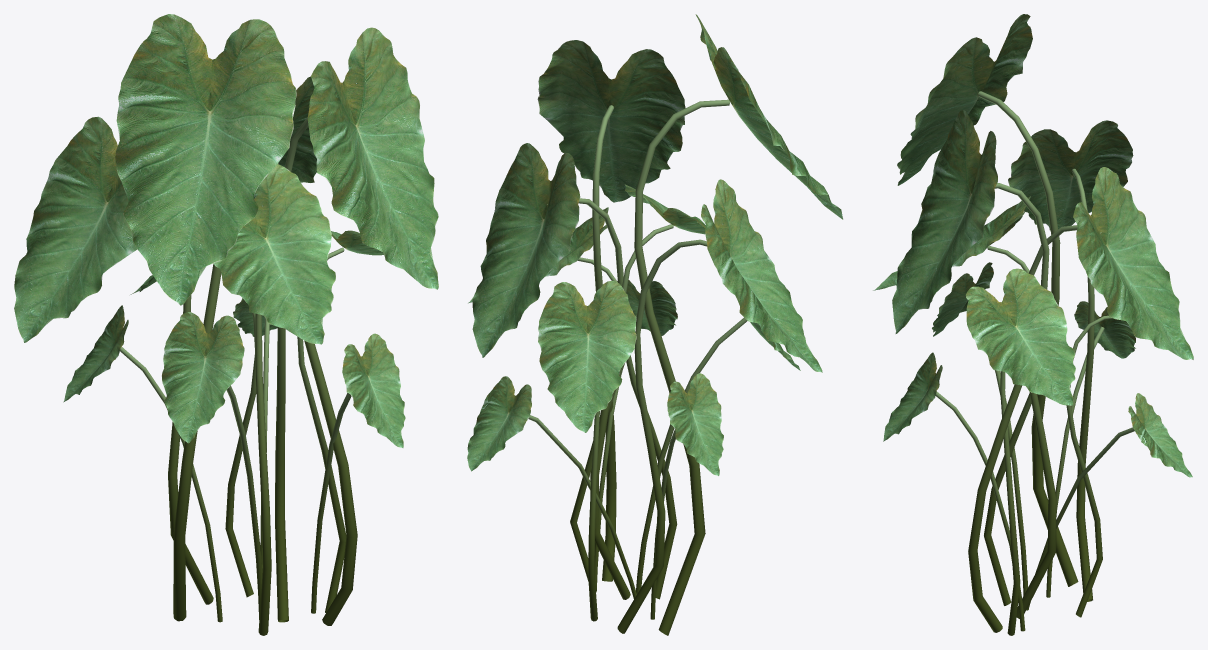
Rendered from ElephantEar2.fbx.
3 renders of one model, left to right at view 1: azimuth 30°, elevation 25°; view 2: azimuth 150°, elevation 25°; view 3: azimuth 270°, elevation 25°, orthographic. The views are drawn at different scales.
Visible parts, largest first — view 1: ElephantLeaf, Veins; view 2: ElephantLeaf, Veins; view 3: ElephantLeaf, Veins.
Boxes of the visible parts, bbox=[...] form: ElephantLeaf: bbox=[14, 14, 438, 447]; Veins: bbox=[120, 117, 357, 635]; ElephantLeaf: bbox=[467, 14, 843, 475]; Veins: bbox=[528, 99, 747, 635]; ElephantLeaf: bbox=[873, 14, 1193, 477]; Veins: bbox=[935, 91, 1134, 635].
Bounding box in the file's own units: 54.96 × 87.46 × 45.67.
